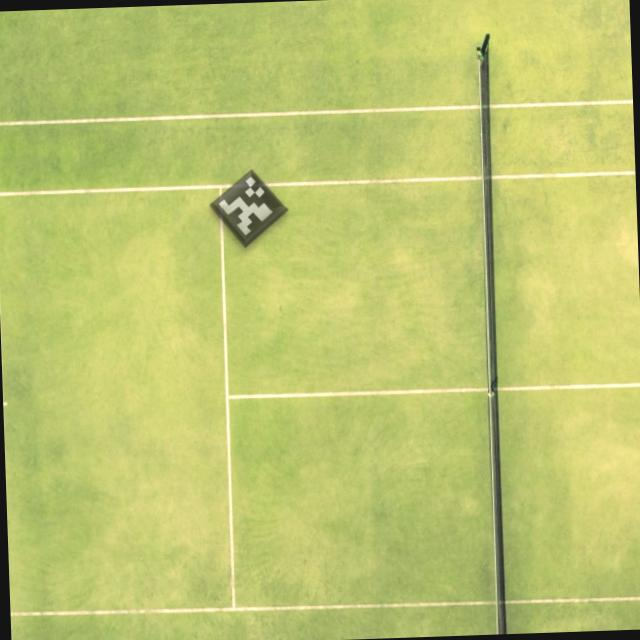marker: (204, 162, 295, 256)
